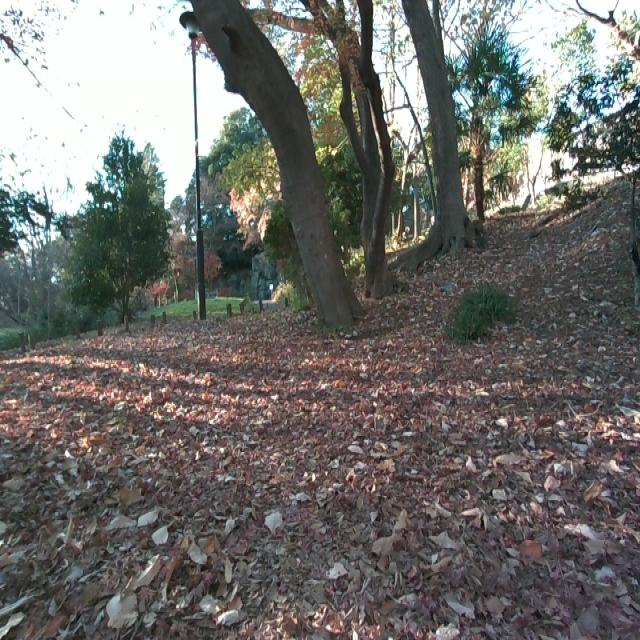artifact: (175, 9, 216, 323)
bush: (438, 285, 518, 343)
tree: (197, 0, 380, 348), (302, 0, 406, 301), (392, 0, 488, 237)
